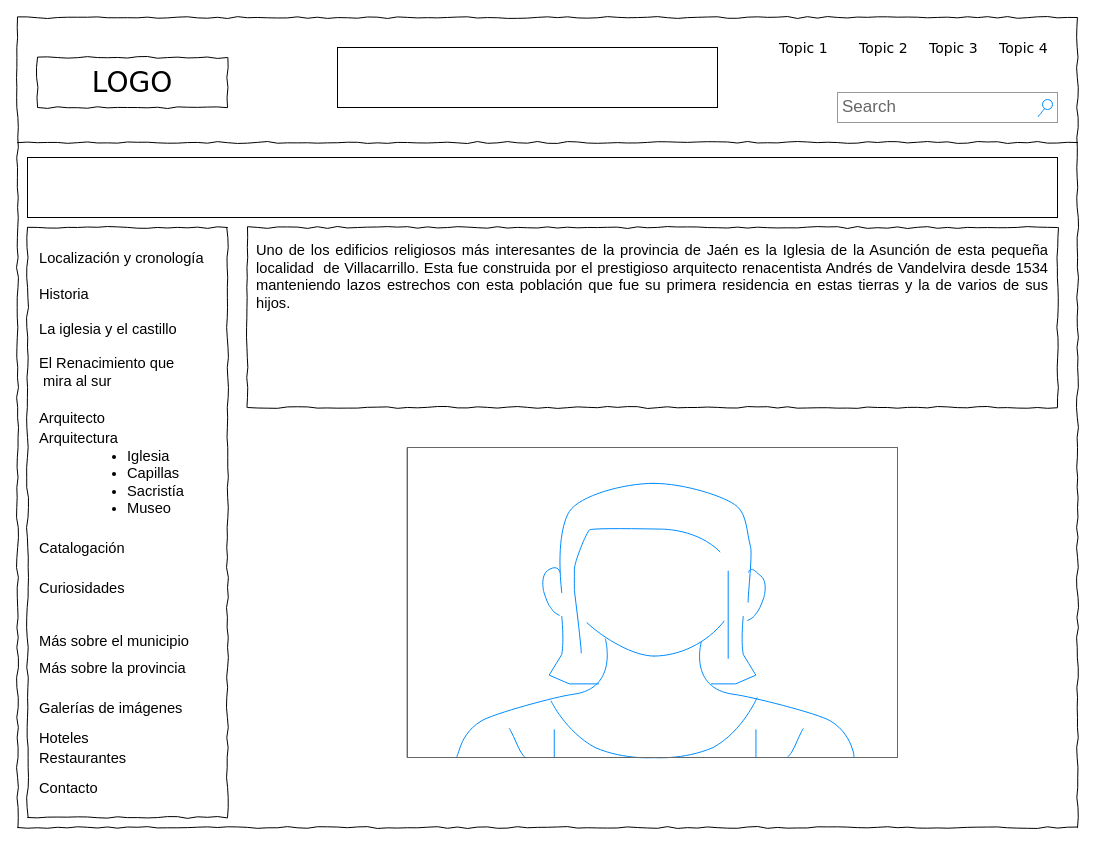
This 1095x845 diagram has some shape labels left out. Each missing label, with the box of its shape:
IGLESIA DE NUESTRA SEÑORA DE LA ASUNCIÓN: (336, 46, 718, 108)
MAPA (ICONO EL DE GOOGLE MAPS): (26, 156, 1058, 218)
